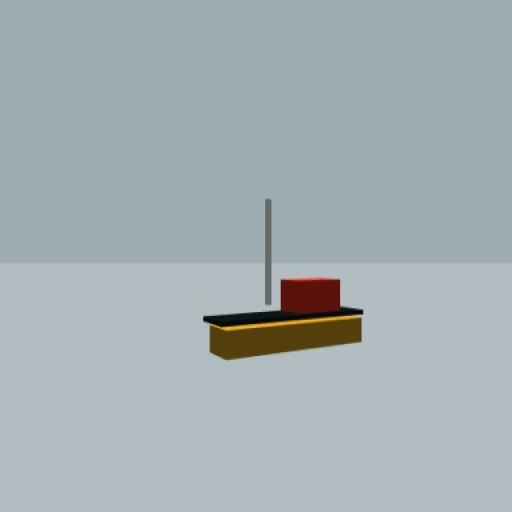vessel: (200, 197, 366, 360)
